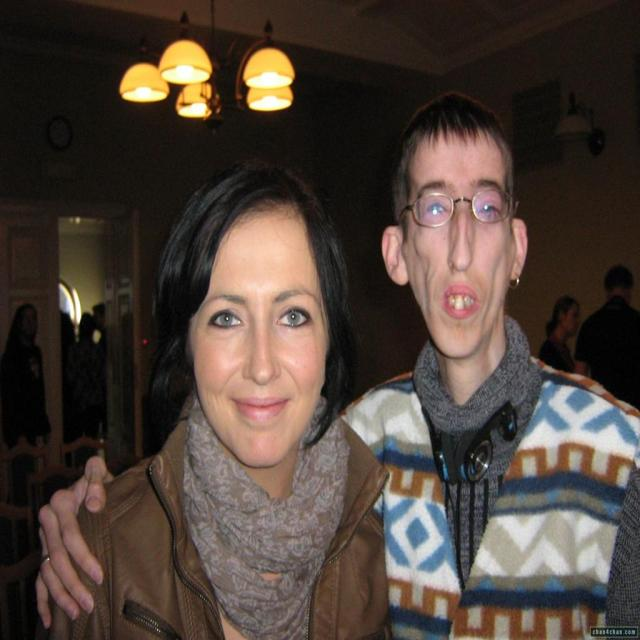Face: (198, 221, 325, 460), (404, 135, 516, 352)
